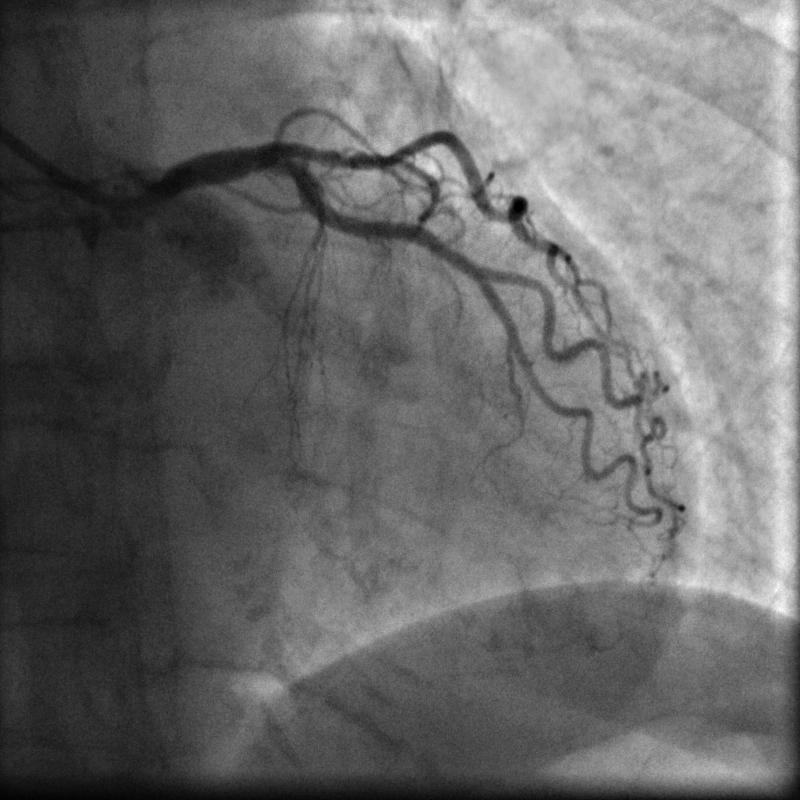Stenosis: (330, 147, 358, 169)
